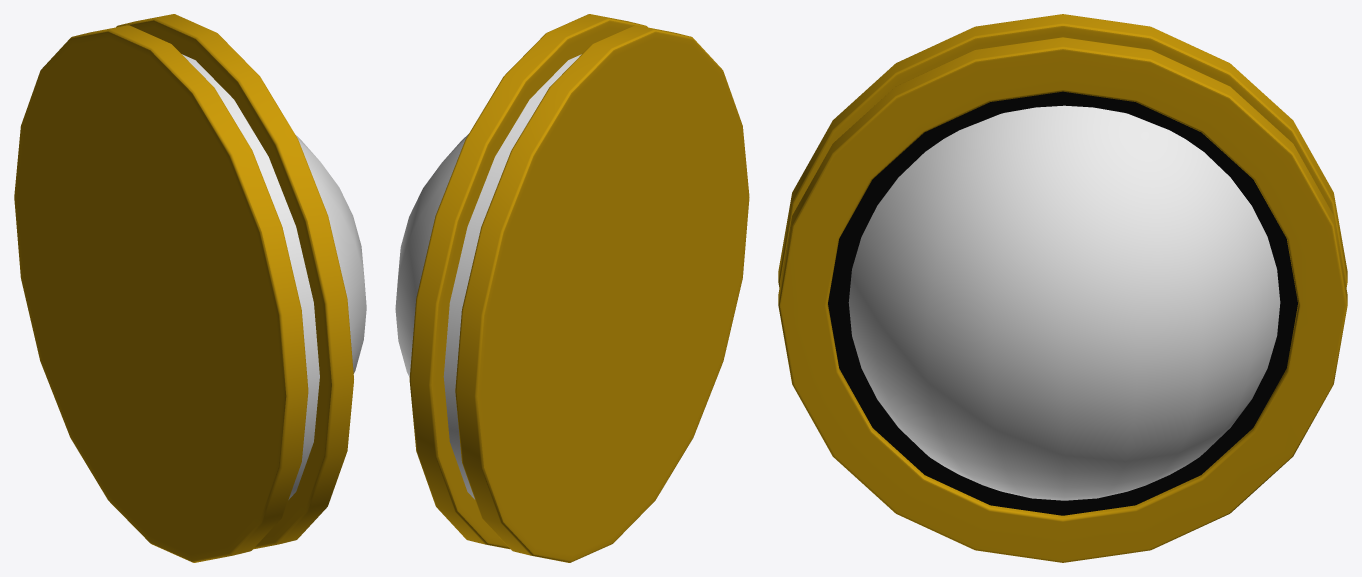
The model's file is room_sign_01.fbx.
3 views of the same model, side by side, from view 1: azimuth 30°, elevation 25°; view 2: azimuth 150°, elevation 25°; view 3: azimuth 270°, elevation 25° (orthographic). The views are drawn at different scales.
Parts seen in each view (by area): view 1: pSphere6; view 2: pSphere6; view 3: pSphere6.
Part boxes in pixels (box(x1,y1,x2,y2)): pSphere6: box(14, 14, 366, 562); pSphere6: box(395, 14, 749, 562); pSphere6: box(778, 14, 1347, 562).
Bounding box in the file's own units: 0.8303 × 2.07 × 2.07.
